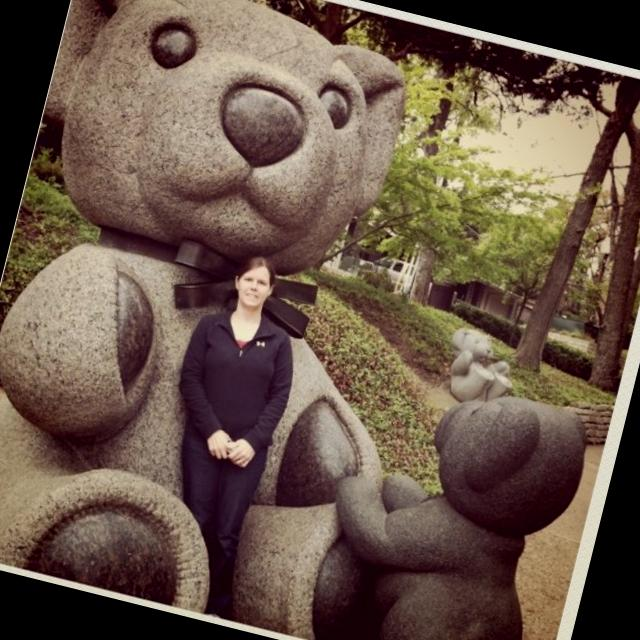Vehicle: (366, 253, 416, 294)
